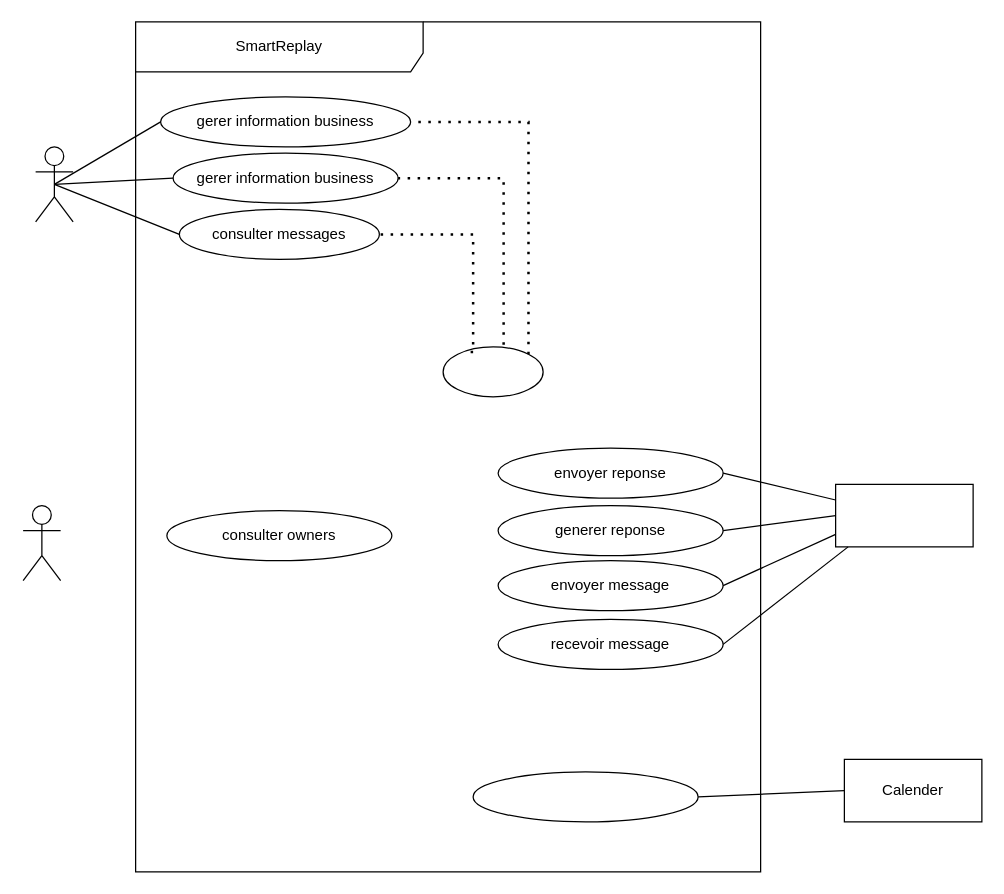
This 1004x894 diagram has some shape labels left out. Here are the shapes that lost their labels. From the top down, the box of each, then its label:
(34, 146, 73, 222): owner
(442, 346, 543, 397): Auth
(834, 483, 973, 547): Ai
(22, 504, 61, 581): admin
(472, 771, 698, 822): proposer rendez-vous
